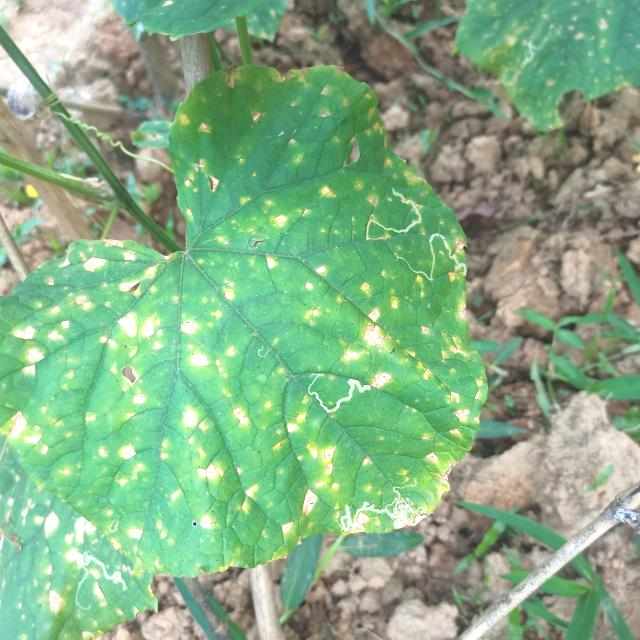disease_cucumber: (10, 76, 488, 560), (1, 481, 130, 624)
